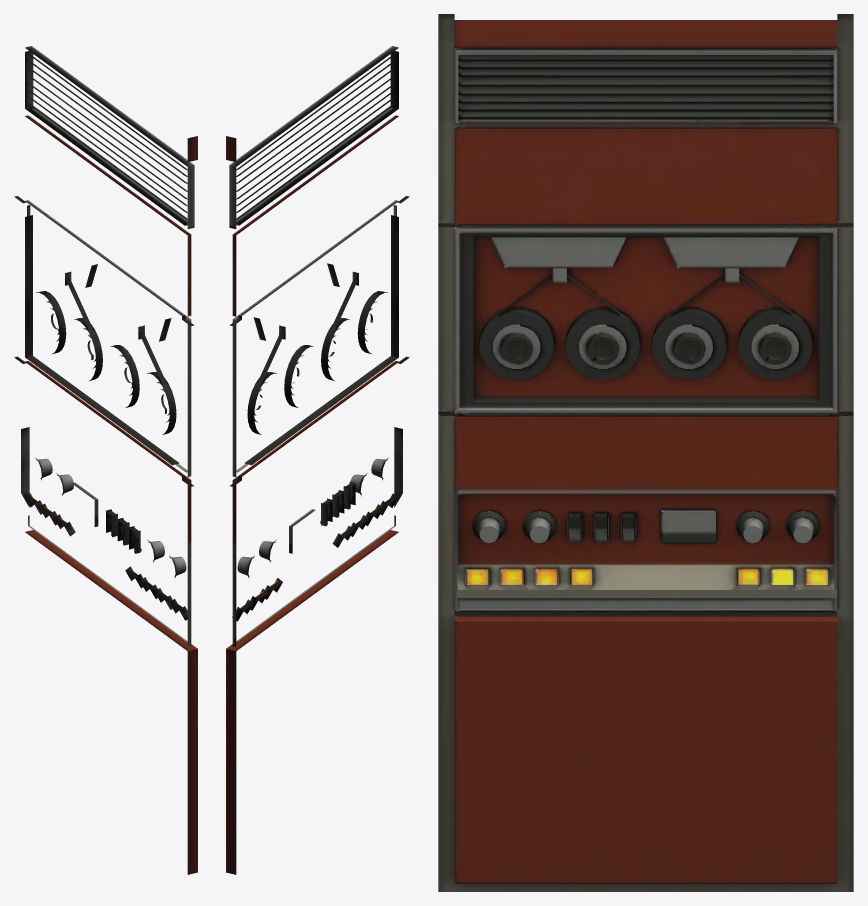
3 views of the same model, side by side, from view 1: azimuth 30°, elevation 25°; view 2: azimuth 150°, elevation 25°; view 3: azimuth 270°, elevation 25° (orthographic). The views are drawn at different scales.
Parts seen in each view (by area): view 1: body0_model0_lod0_mesh0; view 2: body0_model0_lod0_mesh0; view 3: body0_model0_lod0_mesh0.
Part boxes in pixels (left/top/right/bottom): body0_model0_lod0_mesh0: left=14, top=46, right=197, bottom=874; body0_model0_lod0_mesh0: left=226, top=46, right=409, bottom=874; body0_model0_lod0_mesh0: left=438, top=14, right=853, bottom=891.
Size of the model in its own units: 2.79 by 112 by 47.99.
Materials: 1 (1 with a texture image).
